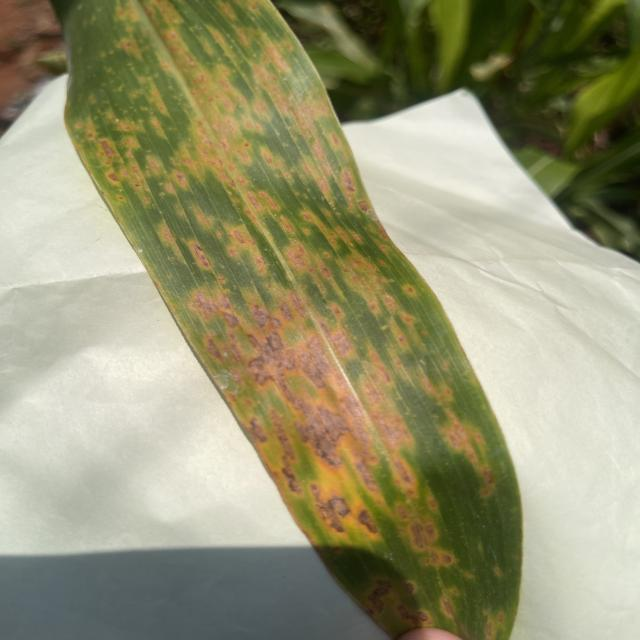millet_rust: (58, 0, 522, 640)
